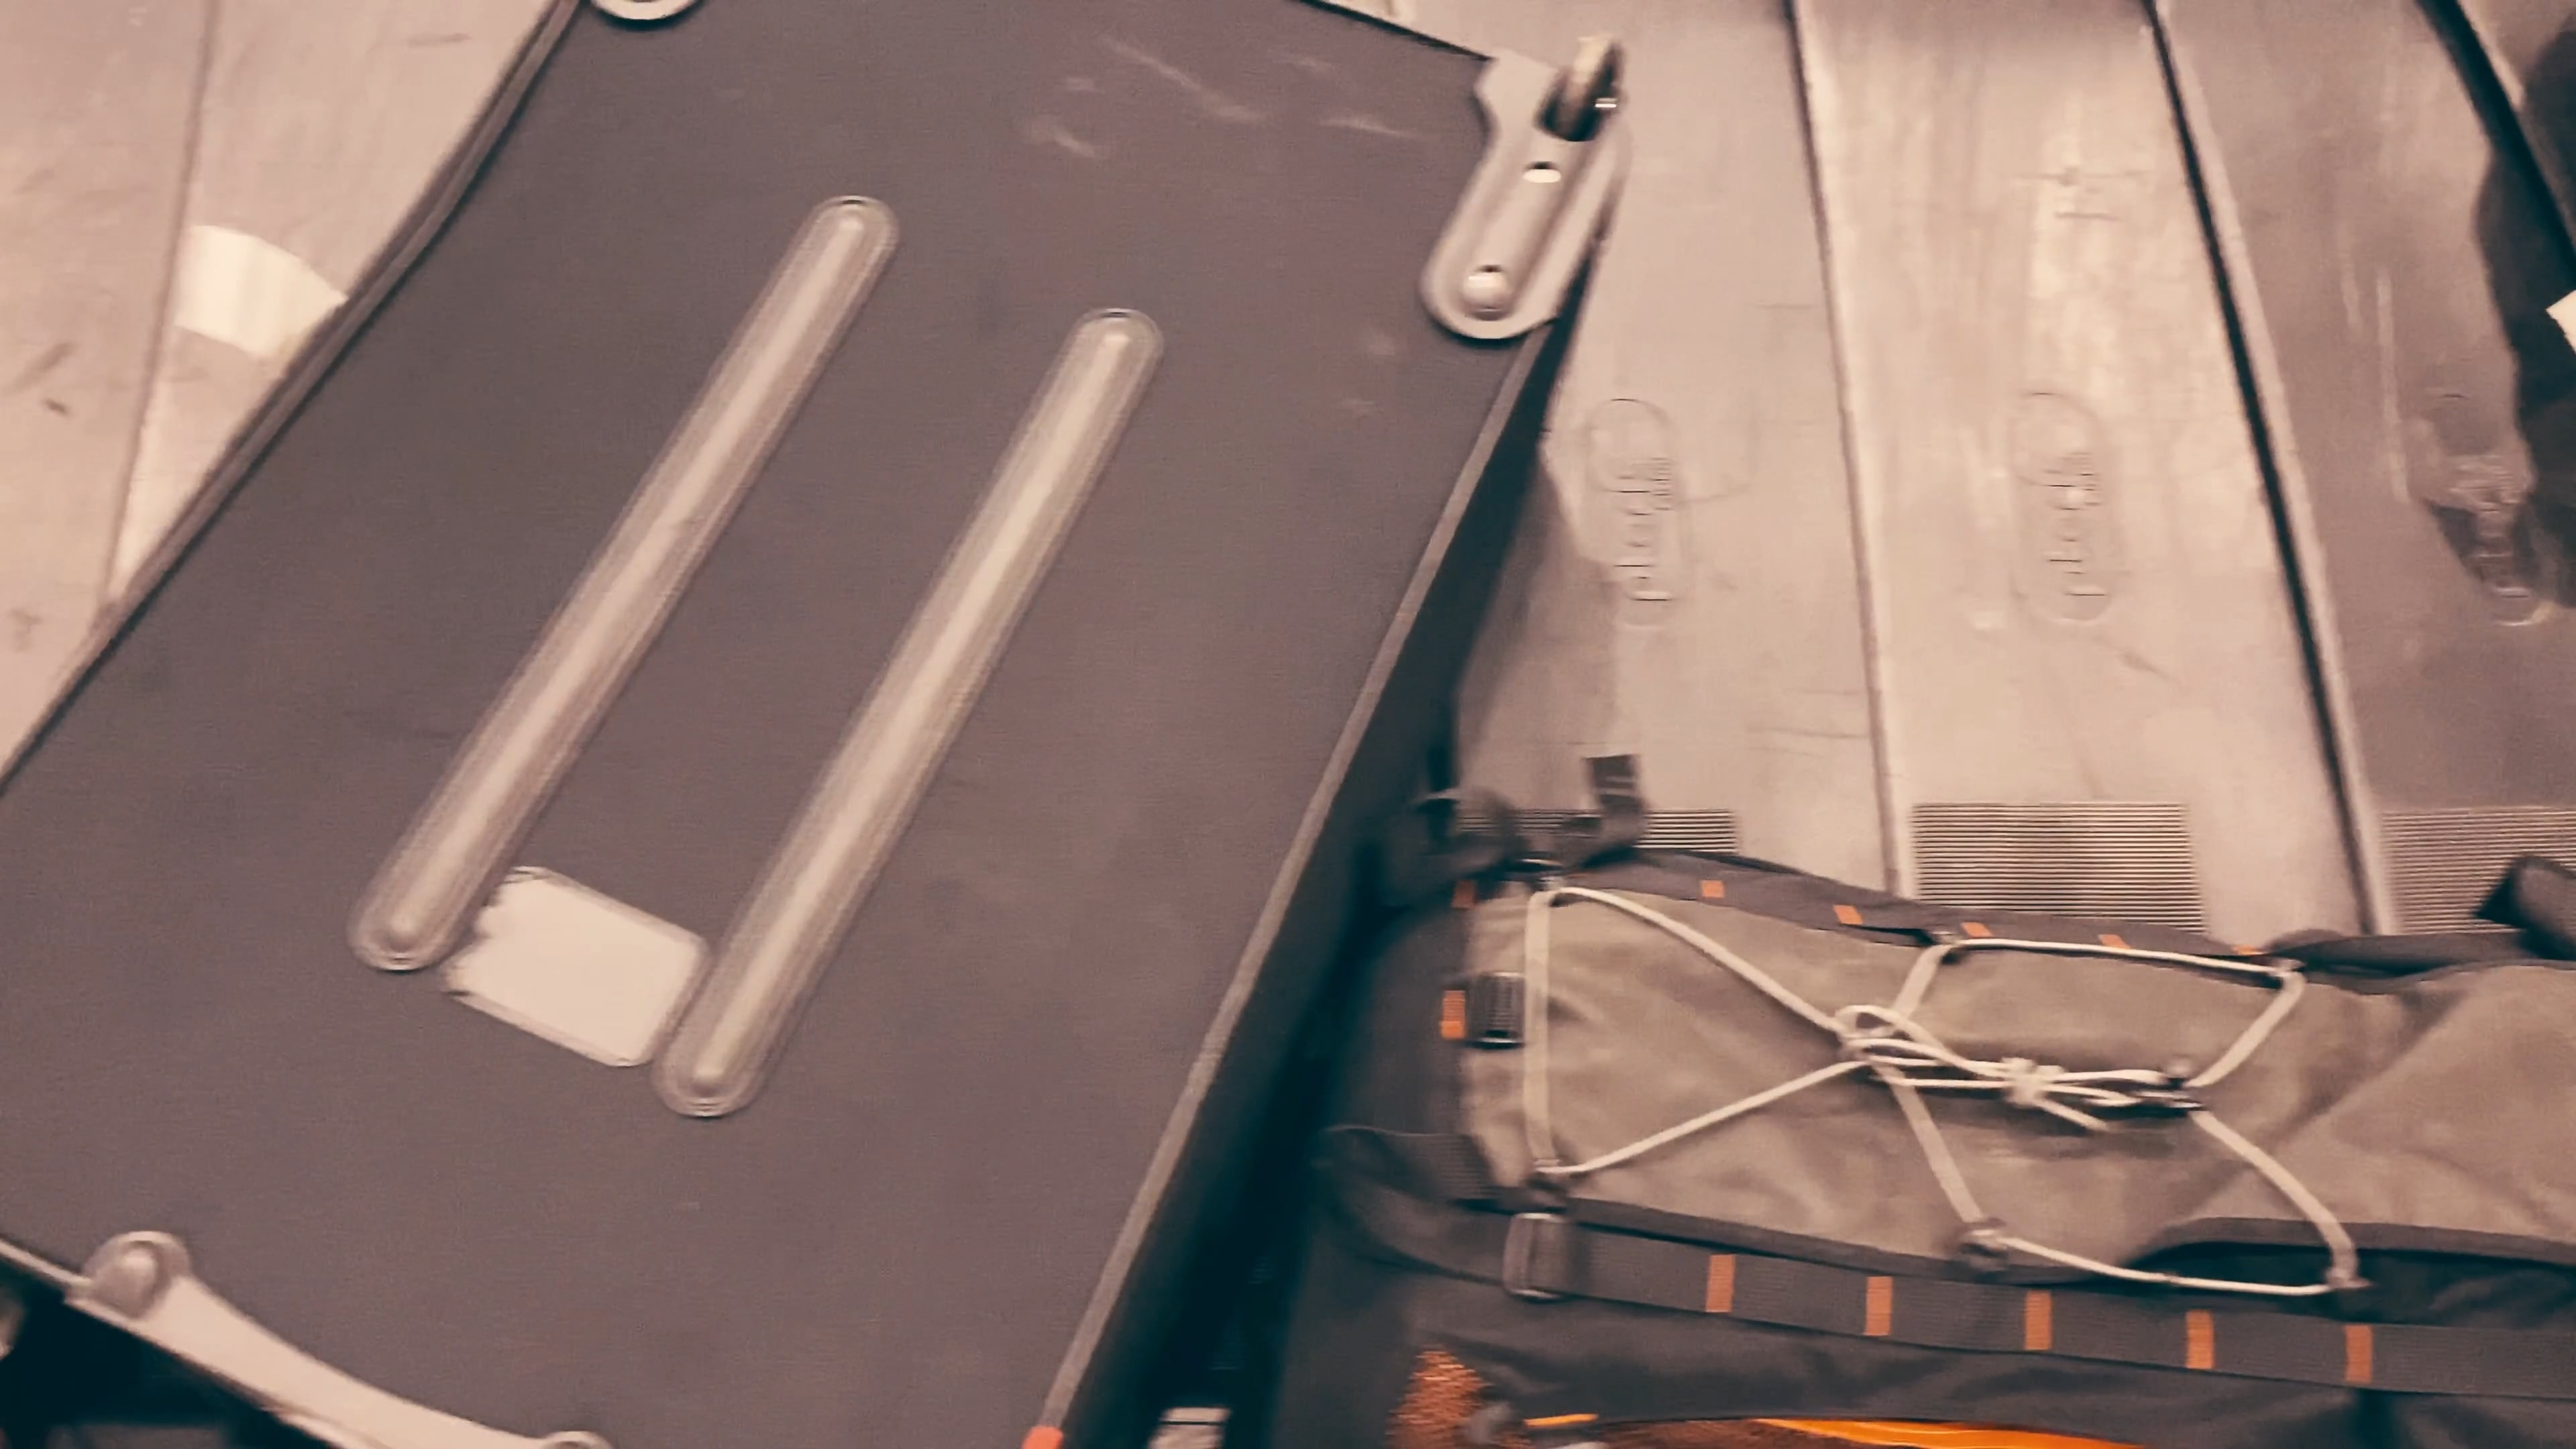baggage: (55, 9, 1631, 1449), (1338, 810, 2576, 1449)
